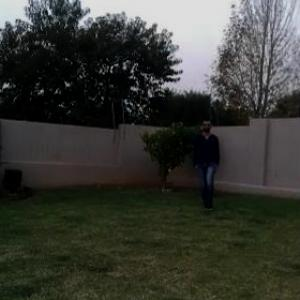follow: (192, 119, 220, 209)
